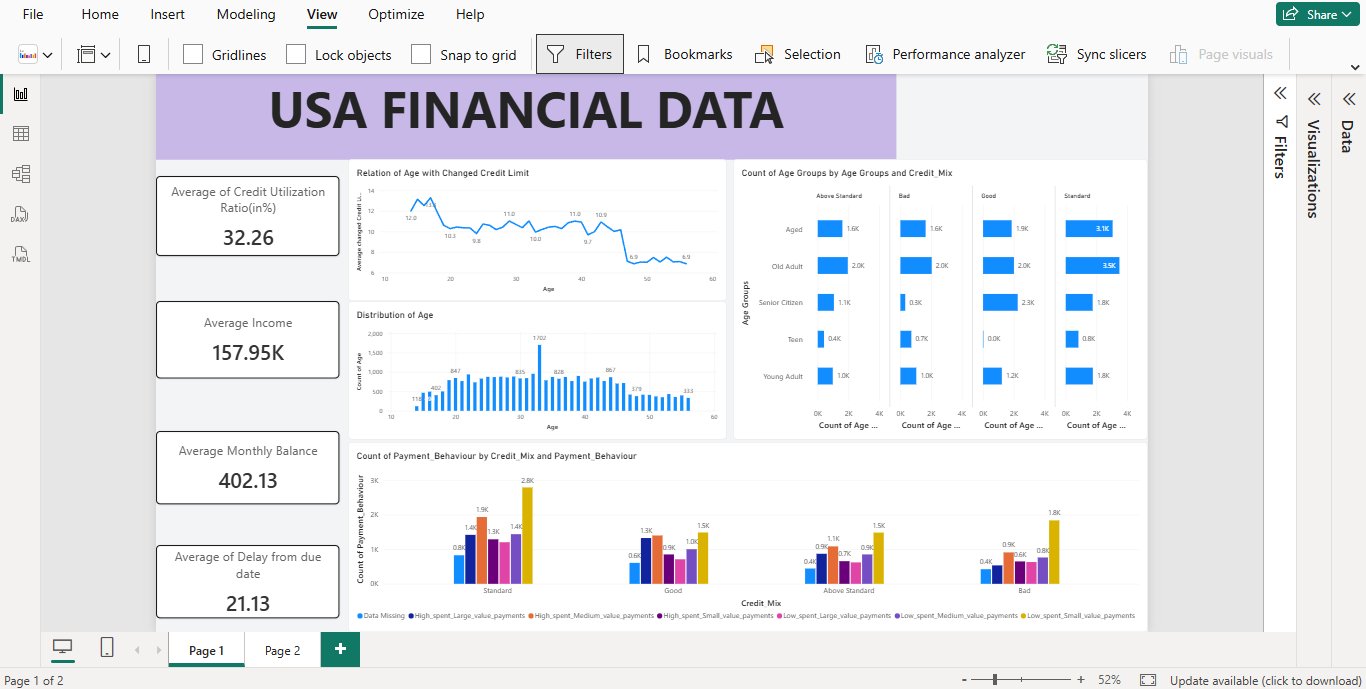

The dashboard page shown, as its layout file describes it:
{"tool":"powerbi","page":{"name":"Page 1","canvas":[1920,1080],"ordinal":0},"visuals":[{"type":"cardVisual","fields":{"Data":["Avg(combined_df.Annual_Income)"]},"box":[0,440.1,355,150],"z":0},{"type":"cardVisual","fields":{"Data":["Avg(combined_df.Monthly_Balance)"]},"box":[0,690.9,355,142.4],"z":1000},{"type":"cardVisual","fields":{"Data":["Avg(combined_df.Delay_from_due_date)"]},"box":[0,912,355,142.4],"z":2000},{"type":"cardVisual","fields":{"Data":["Avg(combined_df.Credit_Utilization_Ratio)"]},"box":[0,197.7,355,155.2],"z":3000},{"type":"textbox","box":[0,0,1432.9,165.8],"z":4000},{"type":"lineChart","title":"Relation of Age with Changed Credit Limit","fields":{"Category":["combined_df.Age"],"Y":["Avg(combined_df.Changed_Credit_Limit)"]},"box":[372.5,165,732.5,275],"z":4002},{"type":"clusteredColumnChart","title":"Distribution of Age","fields":{"Category":["combined_df.Age"],"Y":["CountNonNull(combined_df.Age)"]},"box":[372.5,440,732.5,267.5],"z":4003},{"type":"clusteredBarChart","fields":{"Category":["combined_df.Age Groups"],"Rows":["combined_df.Credit_Mix"],"Y":["CountNonNull(combined_df.Age Groups)"]},"box":[1117.5,165,802.5,542.5],"z":4004},{"type":"clusteredColumnChart","fields":{"Category":["combined_df.Credit_Mix"],"Series":["combined_df.Payment_Behaviour"],"Y":["CountNonNull(combined_df.Payment_Behaviour)"]},"box":[372.5,712.5,1547.5,367.5],"z":4005}]}

Visuals, with their boxes on the page's 1920x1080 design canvas (x1, y1, x2, y2). These are canvas units, not pixel positions in the 1366x689 screenshot, which may show the page scaled, cropped or inside an application window:
cardVisual - Avg(combined_df.Annual_Income): x1=0, y1=440, x2=355, y2=590
cardVisual - Avg(combined_df.Monthly_Balance): x1=0, y1=691, x2=355, y2=833
cardVisual - Avg(combined_df.Delay_from_due_date): x1=0, y1=912, x2=355, y2=1054
cardVisual - Avg(combined_df.Credit_Utilization_Ratio): x1=0, y1=198, x2=355, y2=353
textbox: x1=0, y1=0, x2=1433, y2=166
"Relation of Age with Changed Credit Limit" lineChart: x1=372, y1=165, x2=1105, y2=440
"Distribution of Age" clusteredColumnChart: x1=372, y1=440, x2=1105, y2=708
clusteredBarChart - combined_df.Age Groups x combined_df.Credit_Mix: x1=1118, y1=165, x2=1920, y2=708
clusteredColumnChart - combined_df.Credit_Mix x combined_df.Payment_Behaviour: x1=372, y1=712, x2=1920, y2=1080
